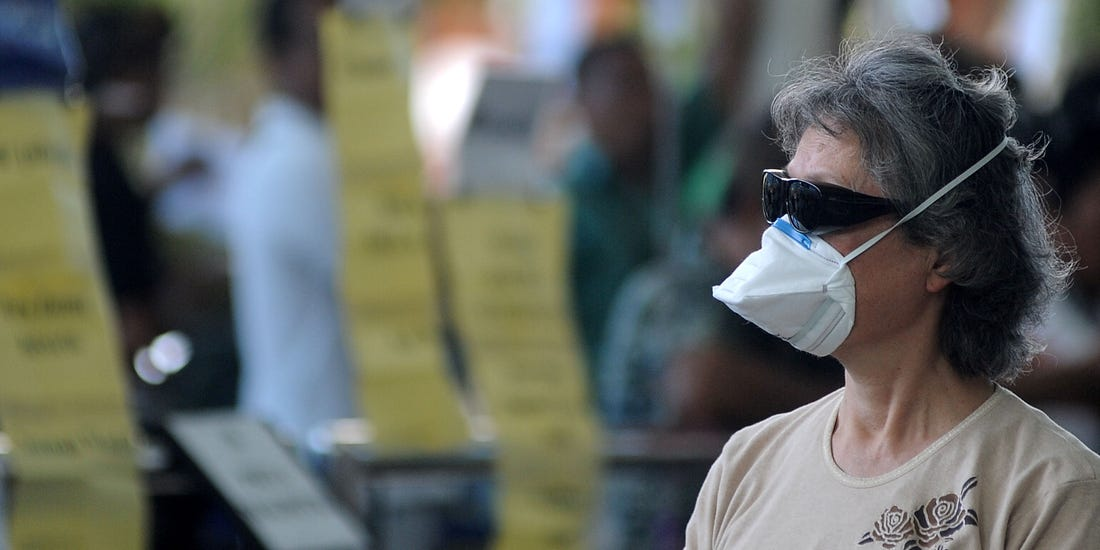n95: (707, 208, 858, 359)
